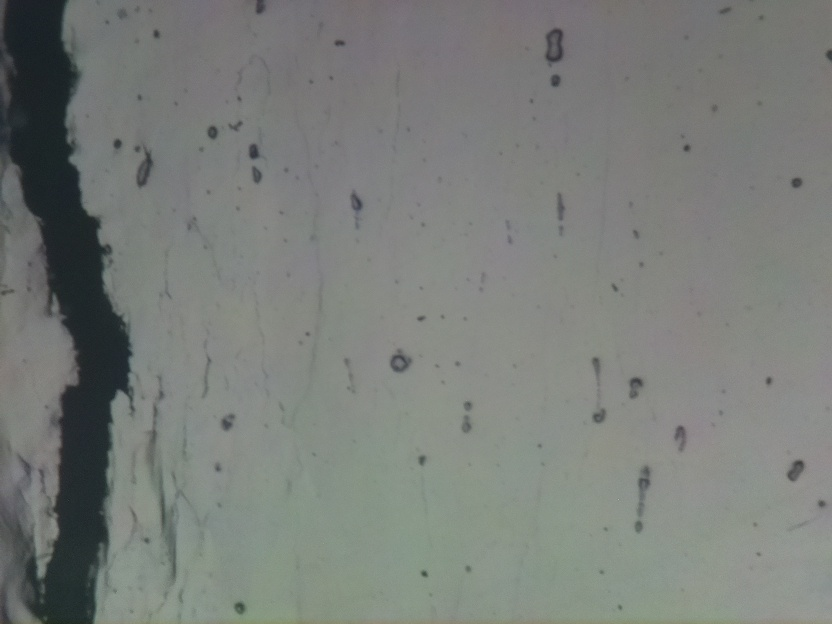crack: (0, 0, 132, 623)
